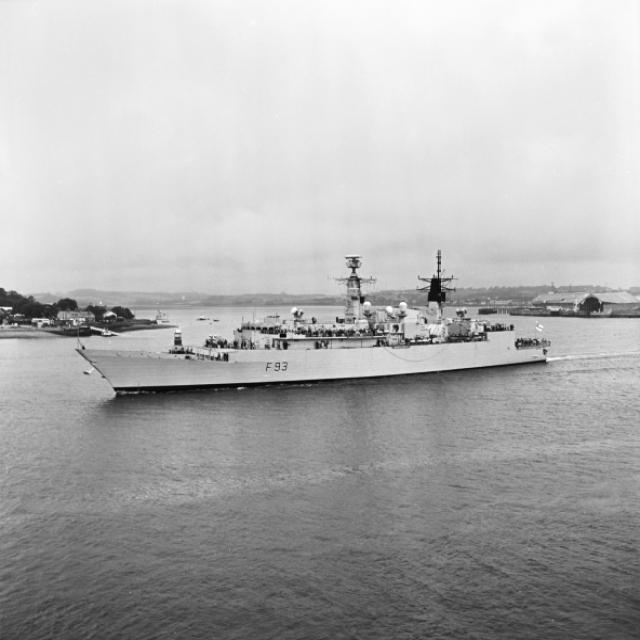Fragata: (68, 234, 557, 403)
